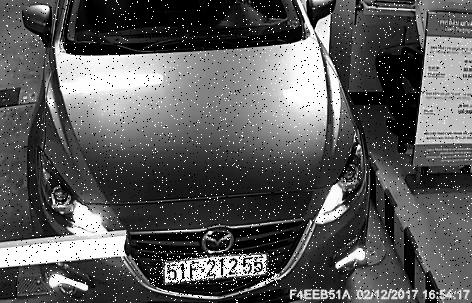License-plate: (152, 252, 280, 286)
